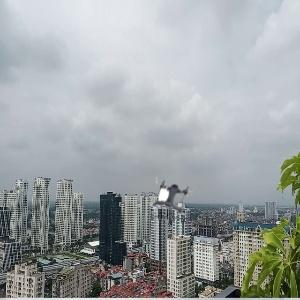drone: (147, 171, 200, 224)
